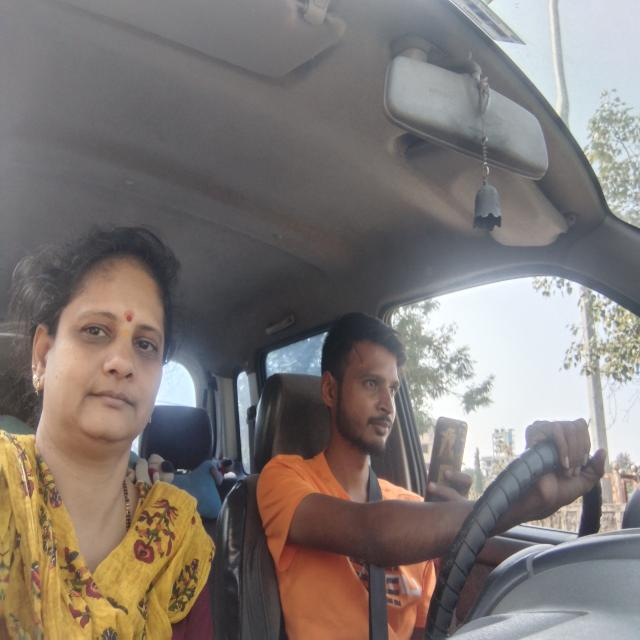mobile: (422, 409, 471, 508)
person: (20, 215, 181, 449), (315, 306, 406, 465)
